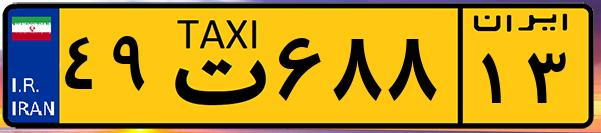1: (475, 38, 525, 113)
3: (525, 38, 570, 115)
4: (57, 26, 110, 100)
6: (270, 28, 330, 110)
8: (385, 28, 445, 110), (330, 28, 385, 110)
9: (110, 28, 158, 98)
ت: (158, 12, 270, 120)
